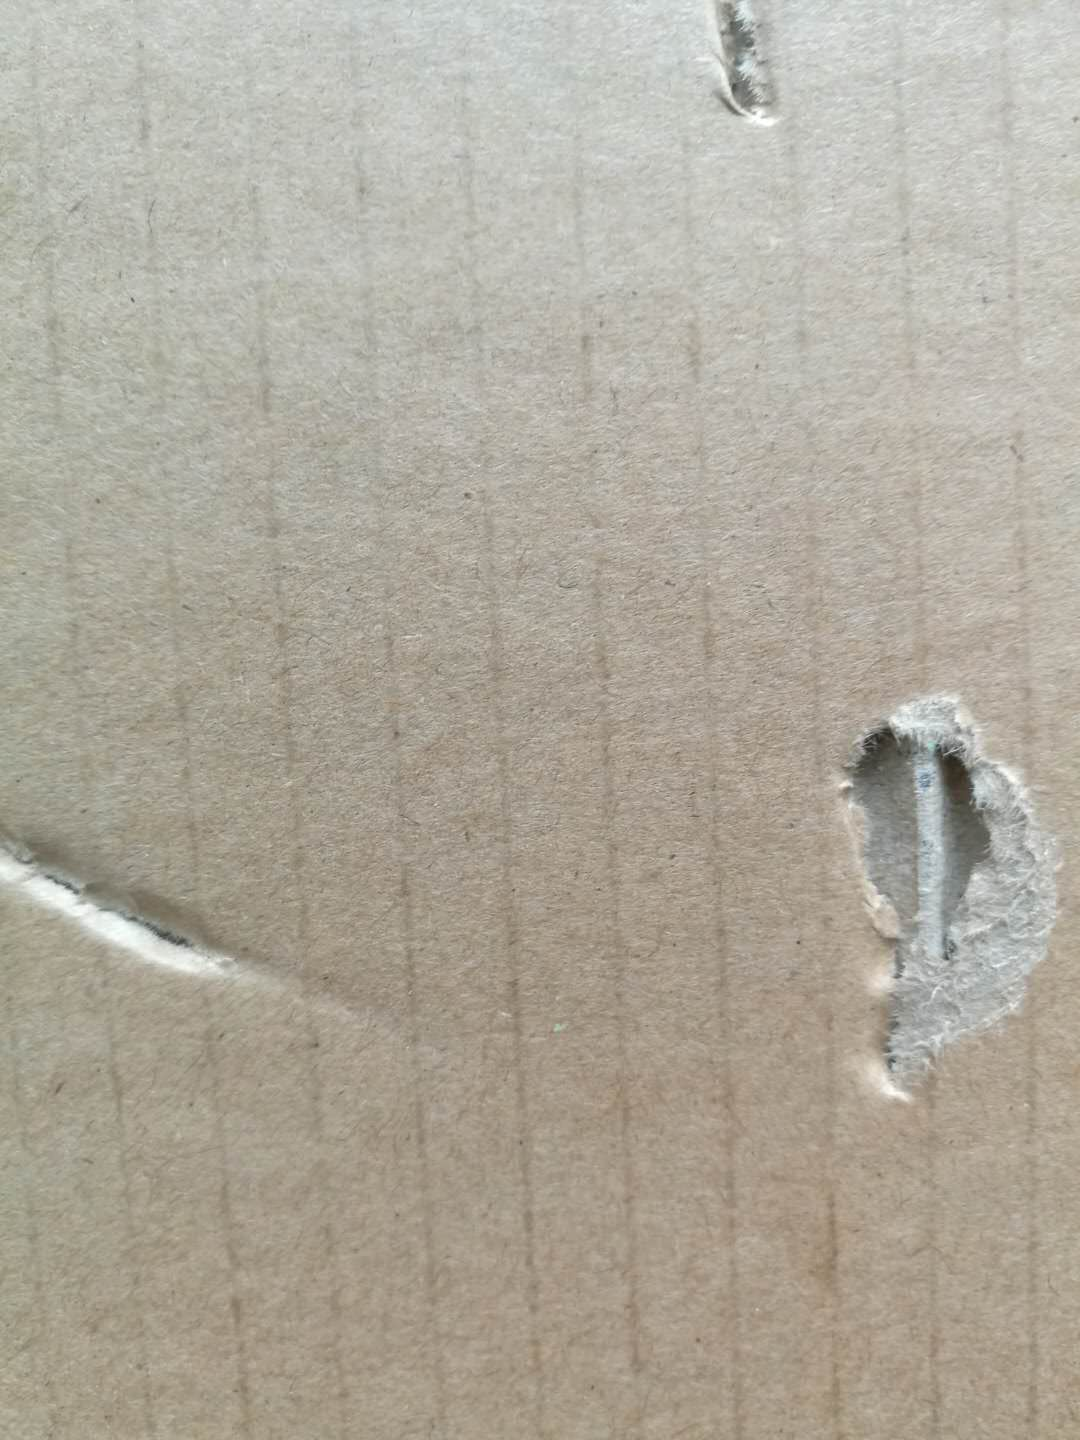defect: (788, 662, 1080, 1135), (3, 770, 429, 1073), (680, 1, 803, 158)
